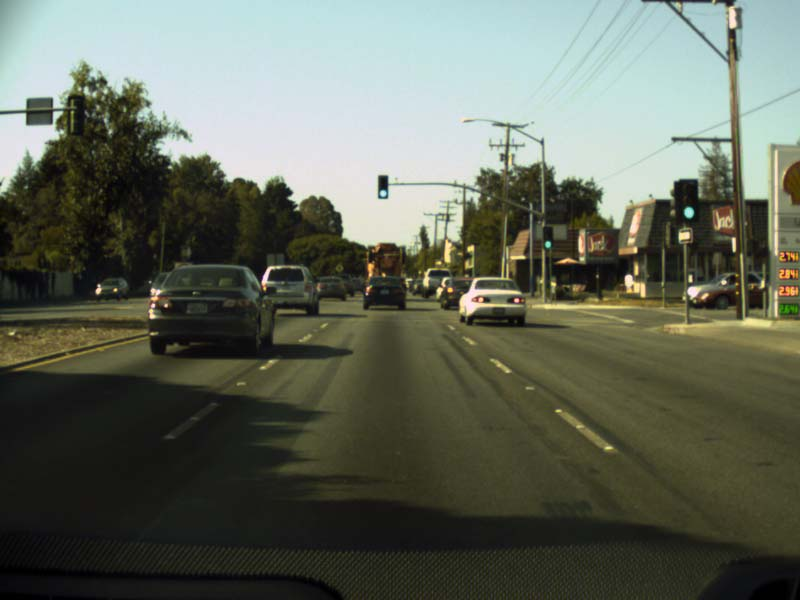Green: (679, 181, 700, 219), (378, 174, 390, 197), (541, 226, 553, 248)
